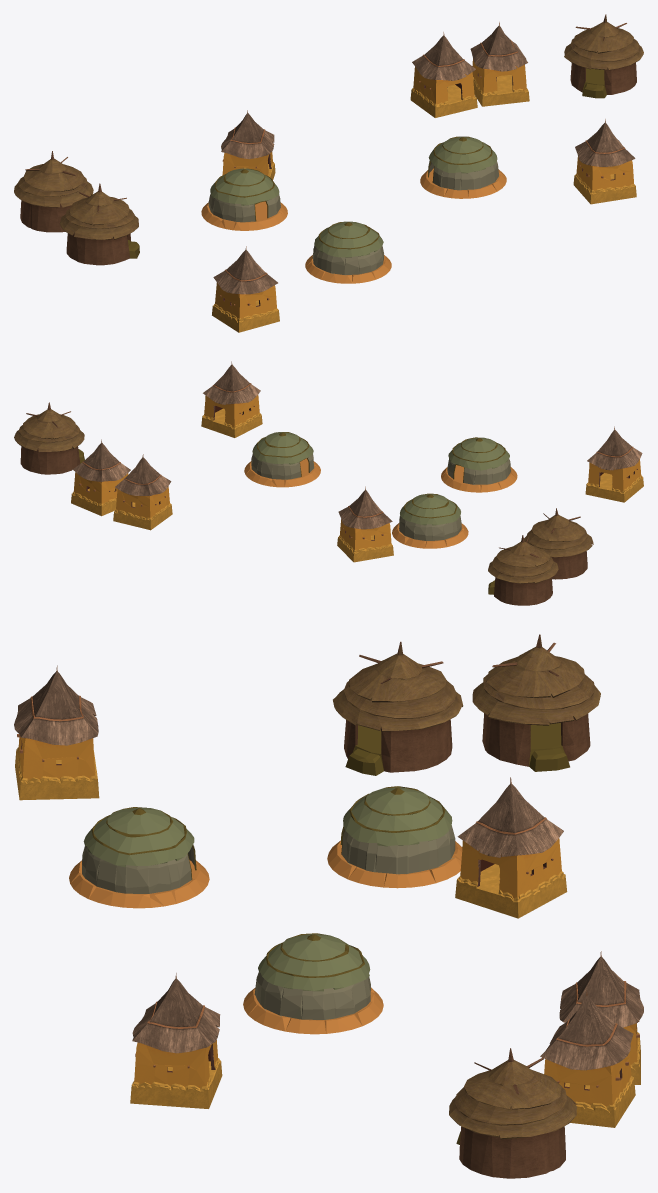
The model's file is MaliHut.fbx.
3 renders of one model, top to bottom at view 1: azimuth 30°, elevation 25°; view 2: azimuth 150°, elevation 25°; view 3: azimuth 270°, elevation 25°, orthographic. The views are drawn at different scales.
Visible parts, largest first — view 1: MaliHut_A.002, MaliHut_A, MaliHut_C.002, MaliHut_C, MaliHut_C.001, MaliHut_B.004, MaliHut_A.001, MaliHut_B.001, MaliHut_B.003, MaliHut_B.005, MaliHut_B.002; view 2: MaliHut_A, MaliHut_A.001, MaliHut_C.001, MaliHut_C.002, MaliHut_C, MaliHut_B.003, MaliHut_B.001, MaliHut_B.004, MaliHut_B.002, MaliHut_A.002, MaliHut_B.005; view 3: MaliHut_A.002, MaliHut_A.001, MaliHut_A, MaliHut_C.001, MaliHut_C.002, MaliHut_C, MaliHut_B.002, MaliHut_B.003, MaliHut_B.004, MaliHut_B.005, MaliHut_B.001.
Boxes of the visible parts, x1,y1,x2,y2 form: MaliHut_A.002: [59, 183, 139, 265]; MaliHut_A: [564, 14, 643, 98]; MaliHut_C.002: [305, 221, 391, 283]; MaliHut_C: [201, 168, 287, 230]; MaliHut_C.001: [420, 136, 506, 198]; MaliHut_B.004: [212, 246, 279, 332]; MaliHut_A.001: [14, 151, 93, 232]; MaliHut_B.001: [410, 32, 477, 117]; MaliHut_B.003: [573, 119, 636, 204]; MaliHut_B.005: [470, 22, 529, 106]; MaliHut_B.002: [221, 110, 275, 179]; MaliHut_A: [14, 402, 84, 474]; MaliHut_A.001: [488, 535, 558, 605]; MaliHut_C.001: [244, 432, 320, 487]; MaliHut_C.002: [441, 437, 517, 492]; MaliHut_C: [392, 493, 468, 548]; MaliHut_B.003: [201, 361, 262, 437]; MaliHut_B.001: [113, 454, 172, 530]; MaliHut_B.004: [585, 426, 643, 502]; MaliHut_B.002: [337, 486, 393, 562]; MaliHut_A.002: [524, 508, 593, 579]; MaliHut_B.005: [71, 439, 130, 516]; MaliHut_A.002: [333, 641, 463, 775]; MaliHut_A.001: [472, 634, 600, 771]; MaliHut_A: [449, 1048, 576, 1178]; MaliHut_C.001: [243, 933, 383, 1034]; MaliHut_C.002: [69, 807, 209, 908]; MaliHut_C: [327, 786, 462, 888]; MaliHut_B.002: [455, 777, 567, 918]; MaliHut_B.003: [130, 973, 222, 1108]; MaliHut_B.004: [14, 665, 99, 800]; MaliHut_B.005: [540, 990, 635, 1127]; MaliHut_B.001: [559, 951, 643, 1084].
Size of the model in its own units: 7527 by 944 by 4135.
